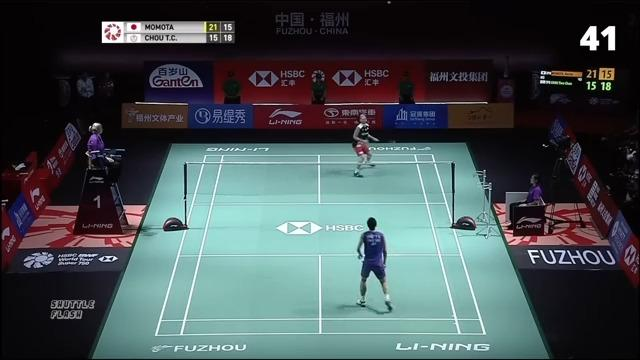Shuttlecock: (386, 0, 394, 6)
